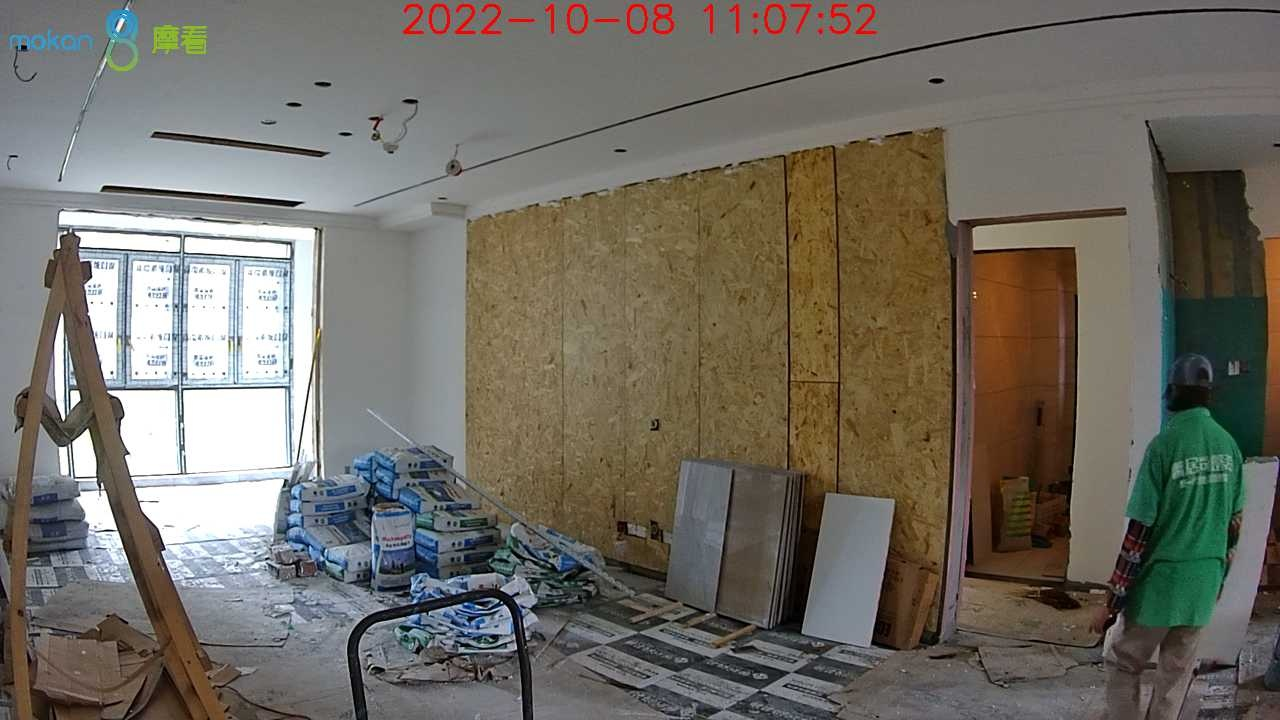people: (1089, 354, 1244, 720)
window: (60, 226, 294, 476)
